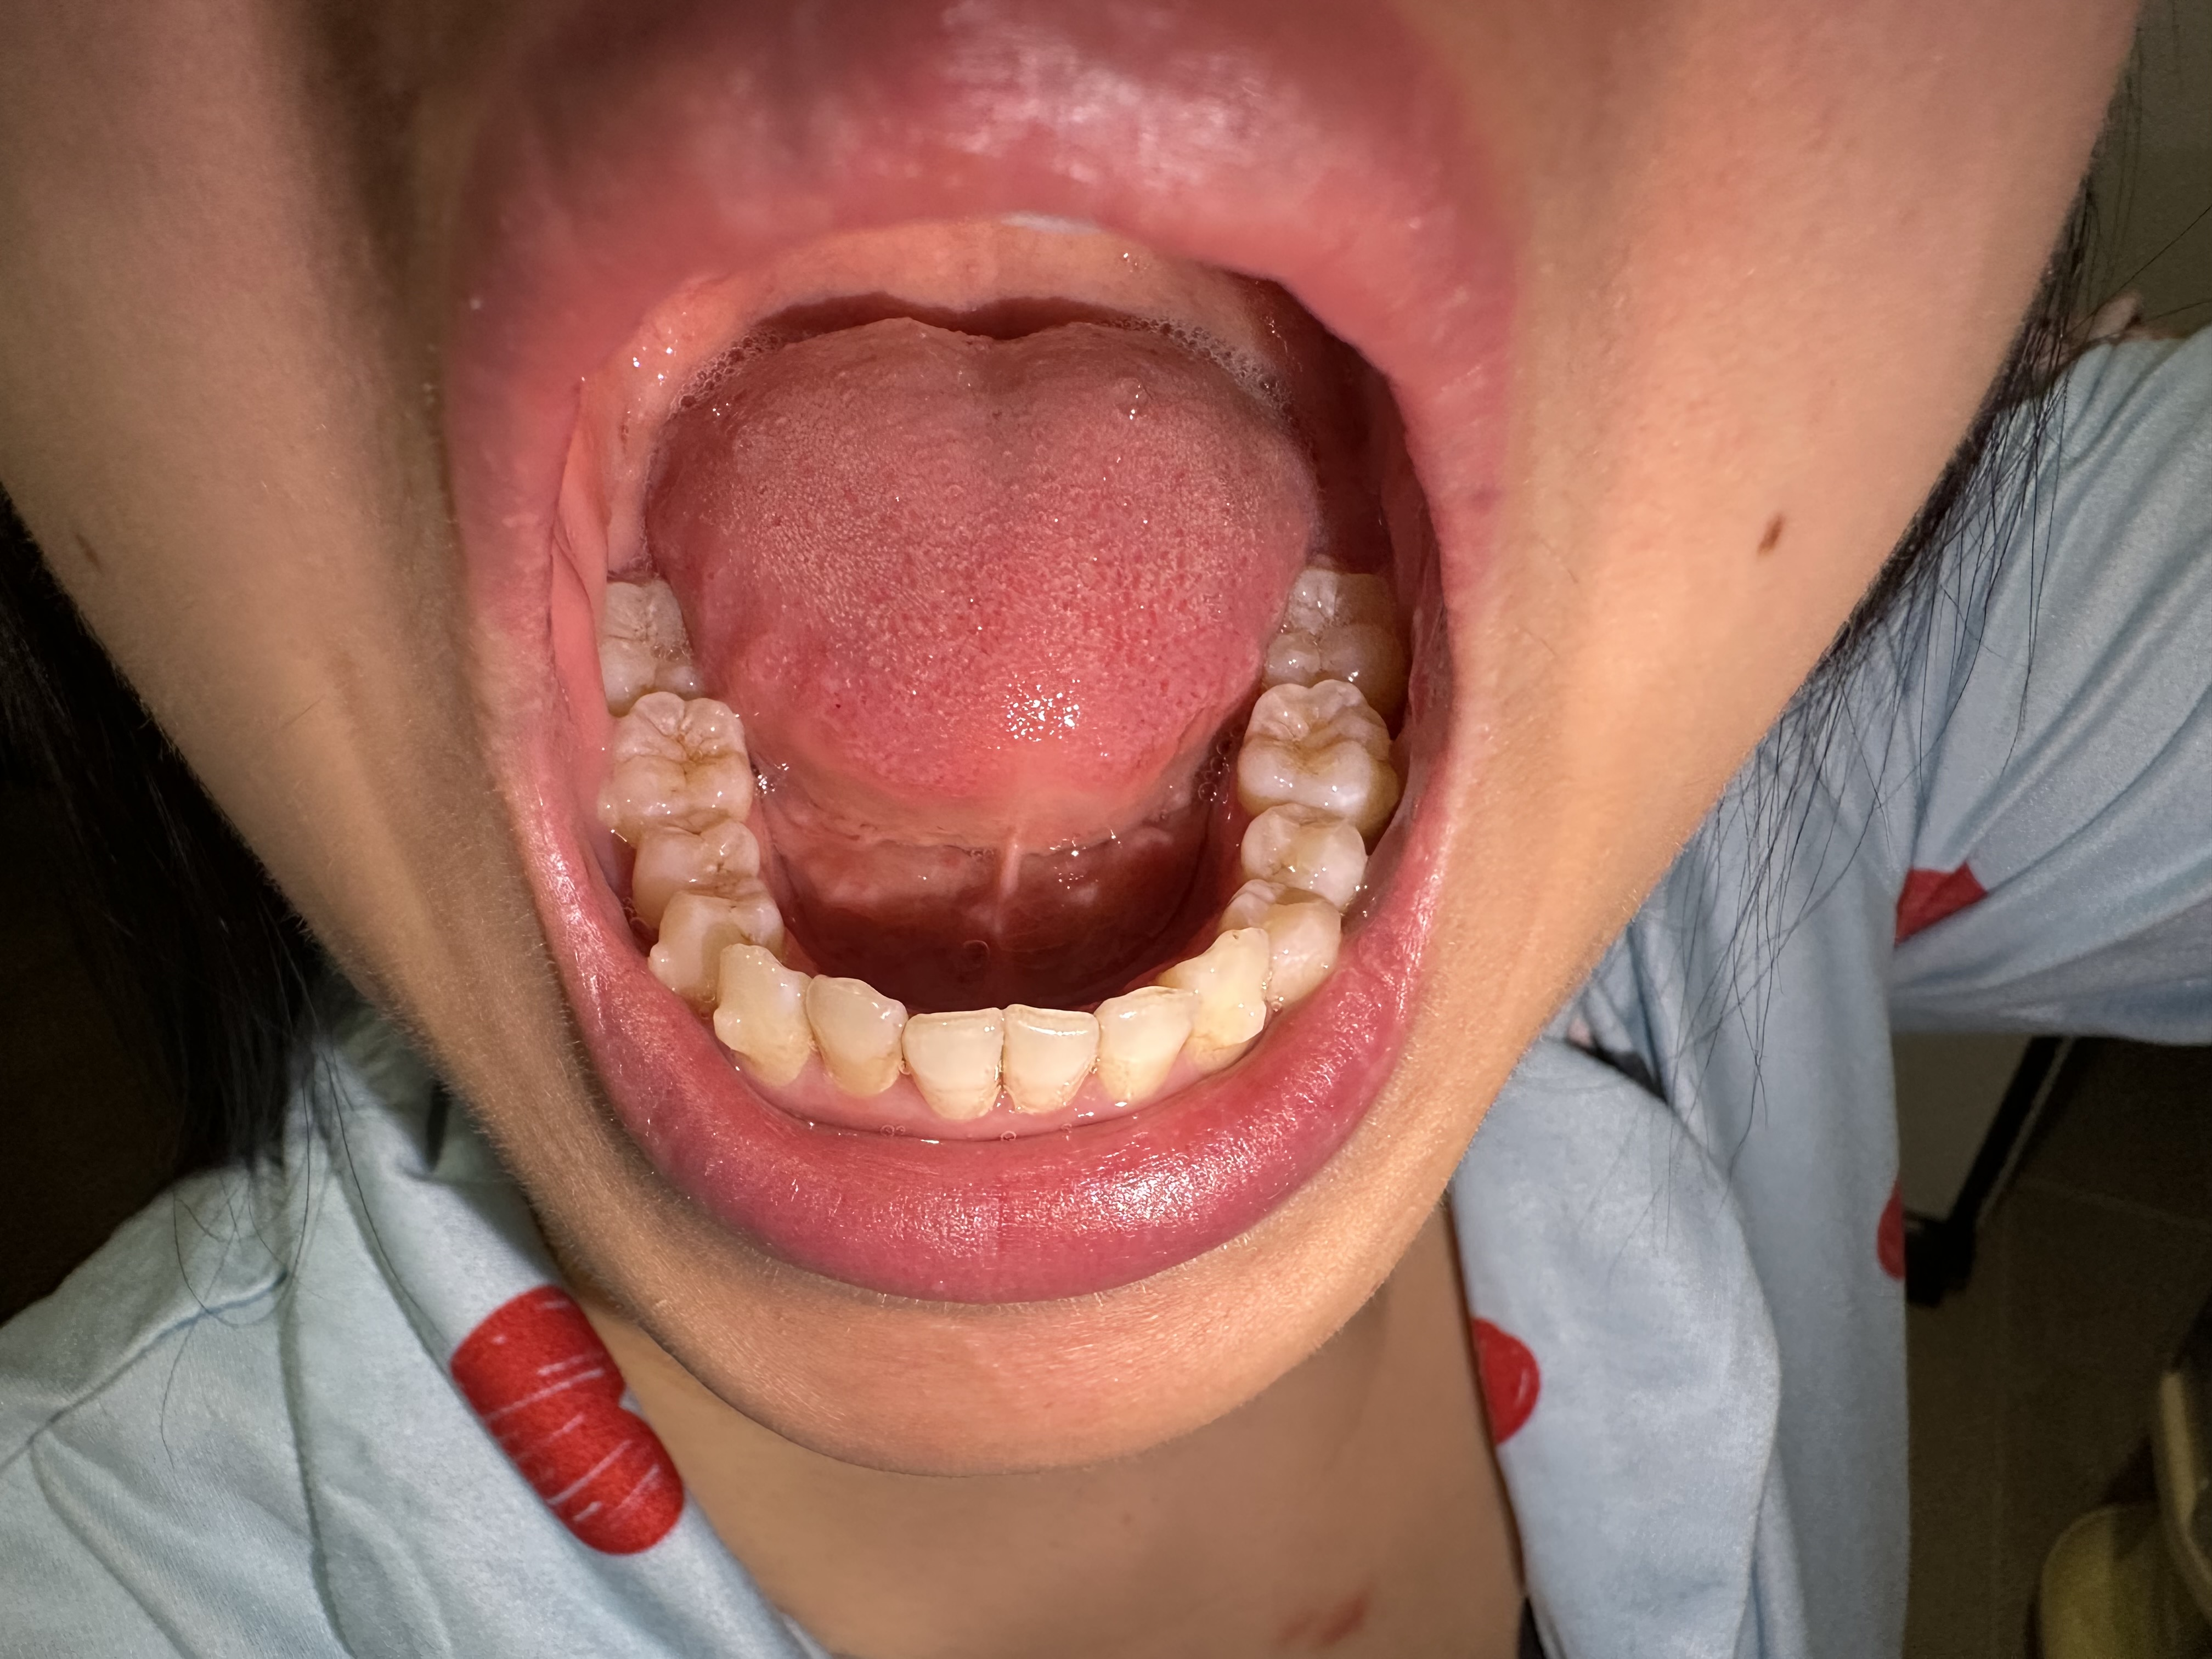teeth: (604, 694, 754, 817), (1244, 683, 1390, 807), (629, 824, 768, 932), (1268, 565, 1400, 673), (712, 948, 813, 1082), (648, 880, 773, 986), (1174, 929, 1266, 1061), (1233, 878, 1332, 1000), (596, 577, 695, 695), (1254, 805, 1367, 901), (813, 981, 899, 1089), (1106, 986, 1184, 1100), (907, 1018, 995, 1112), (1008, 1012, 1087, 1107)
